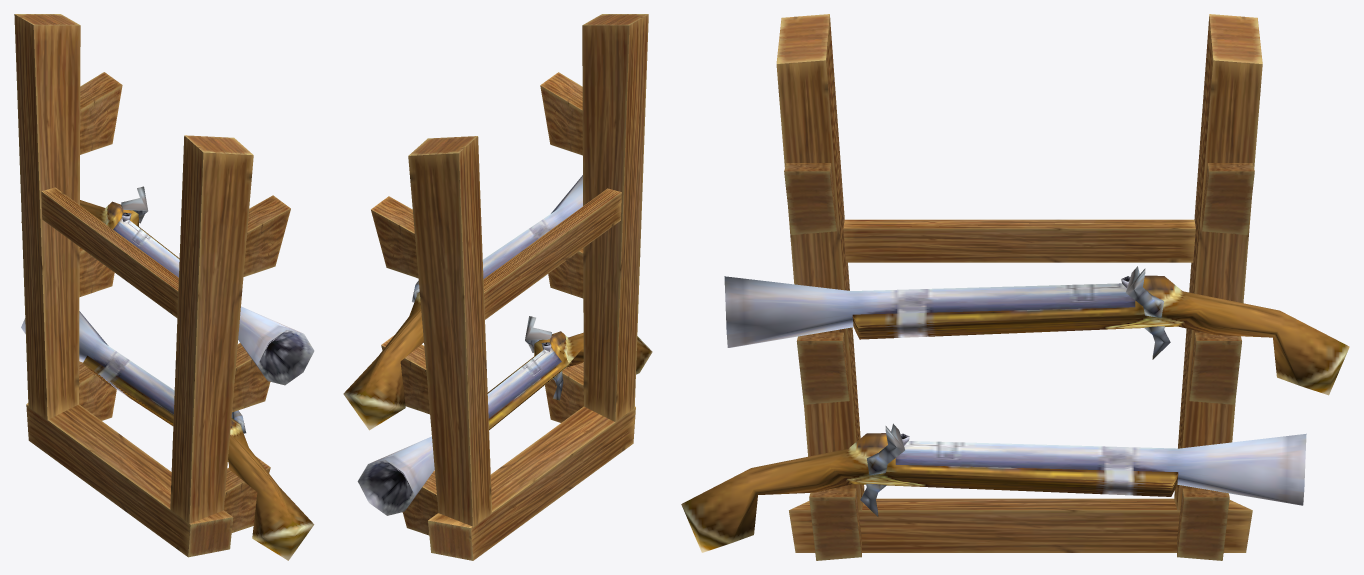
Rendered from gunrack01b.obj.
3 renders of one model, left to right at view 1: azimuth 30°, elevation 25°; view 2: azimuth 150°, elevation 25°; view 3: azimuth 270°, elevation 25°, orthographic. The views are drawn at different scales.
Visible parts, largest first — view 1: Geoset0, Geoset1; view 2: Geoset0, Geoset1; view 3: Geoset0, Geoset1.
Part boxes in pixels (<box>): Geoset0: <box>14,14,290,557</box>; Geoset1: <box>21,186,314,560</box>; Geoset0: <box>371,14,648,560</box>; Geoset1: <box>343,175,652,515</box>; Geoset0: <box>776,14,1262,560</box>; Geoset1: <box>681,266,1349,552</box>.
Bounding box in the file's own units: 0.3431 × 1.54 × 1.77.
Materials: 2 (2 with a texture image).
